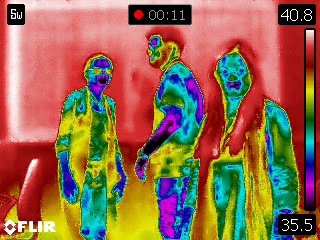human: (207, 37, 298, 216), (134, 27, 205, 240), (59, 50, 130, 240)
